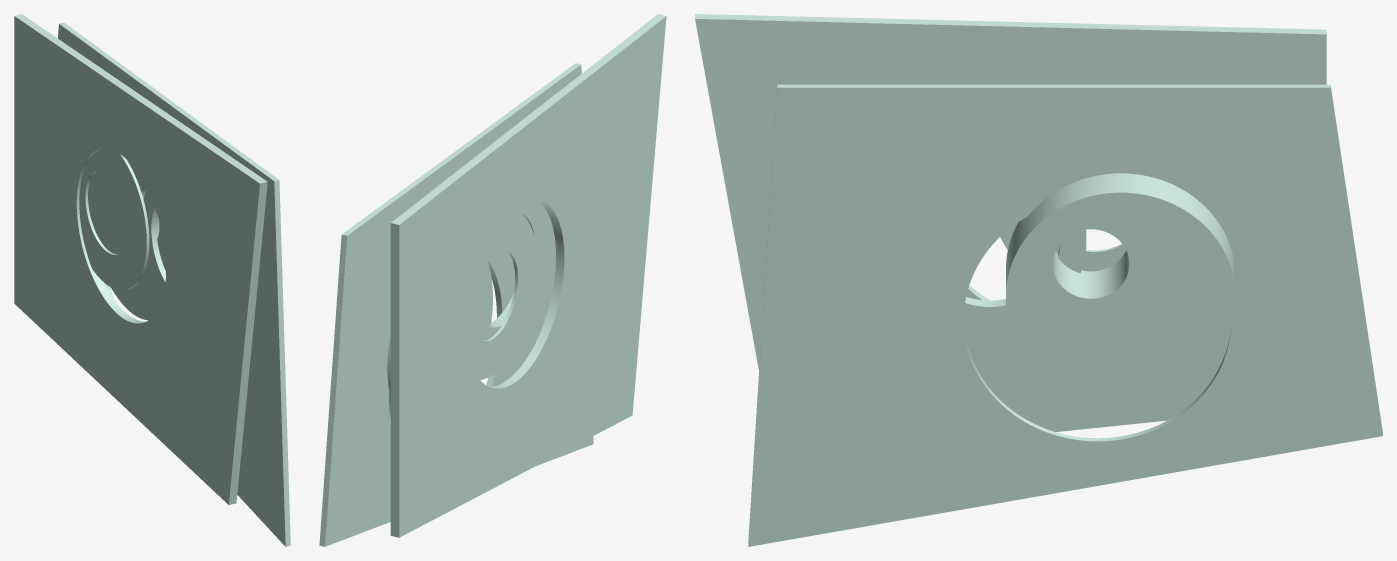
3 renders of one model, left to right at view 1: azimuth 30°, elevation 25°; view 2: azimuth 150°, elevation 25°; view 3: azimuth 270°, elevation 25°, orthographic. The views are drawn at different scales.
Visible parts, largest first — view 1: Renderer Node; view 2: Renderer Node; view 3: Renderer Node.
Boxes of the visible parts, x1=… form: Renderer Node: x1=14, y1=14, x2=290, y2=546; Renderer Node: x1=319, y1=14, x2=666, y2=546; Renderer Node: x1=695, y1=14, x2=1382, y2=546.
Size of the model in its own units: 0.25 by 1.13 by 1.41.
